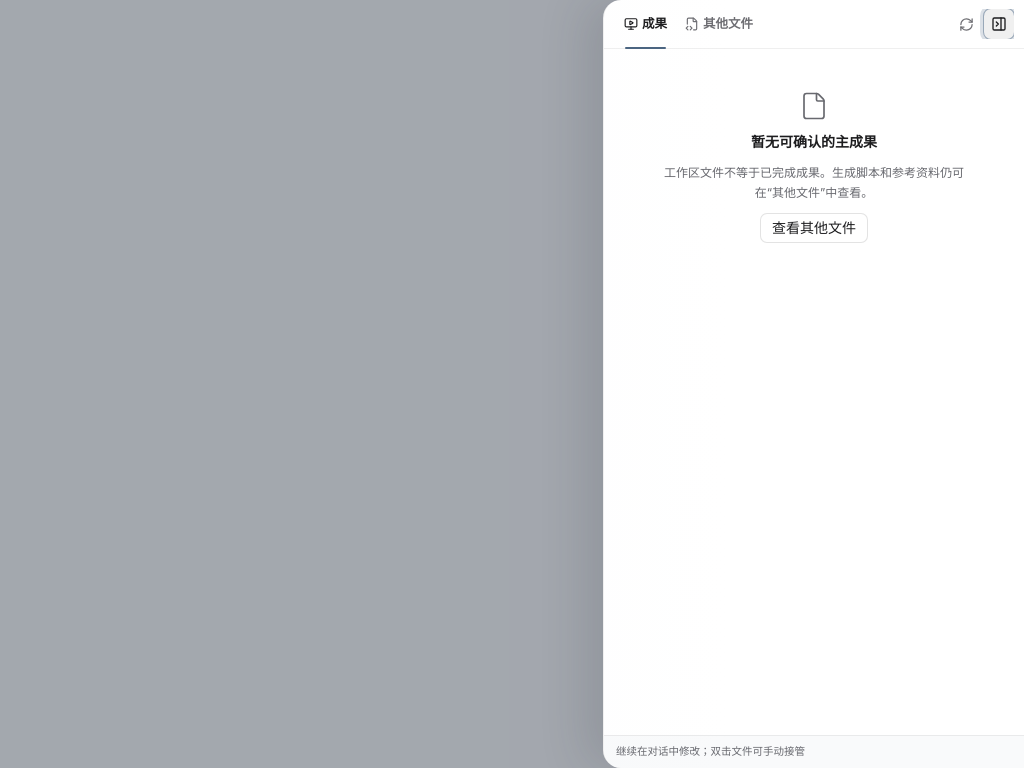
Test: ChatArtifactPanel › keeps the last scoped file tree when a refresh temporarily fails
Click the button "其他文件".
click(719, 24)  # box x1=677 y1=0 x2=761 y2=48
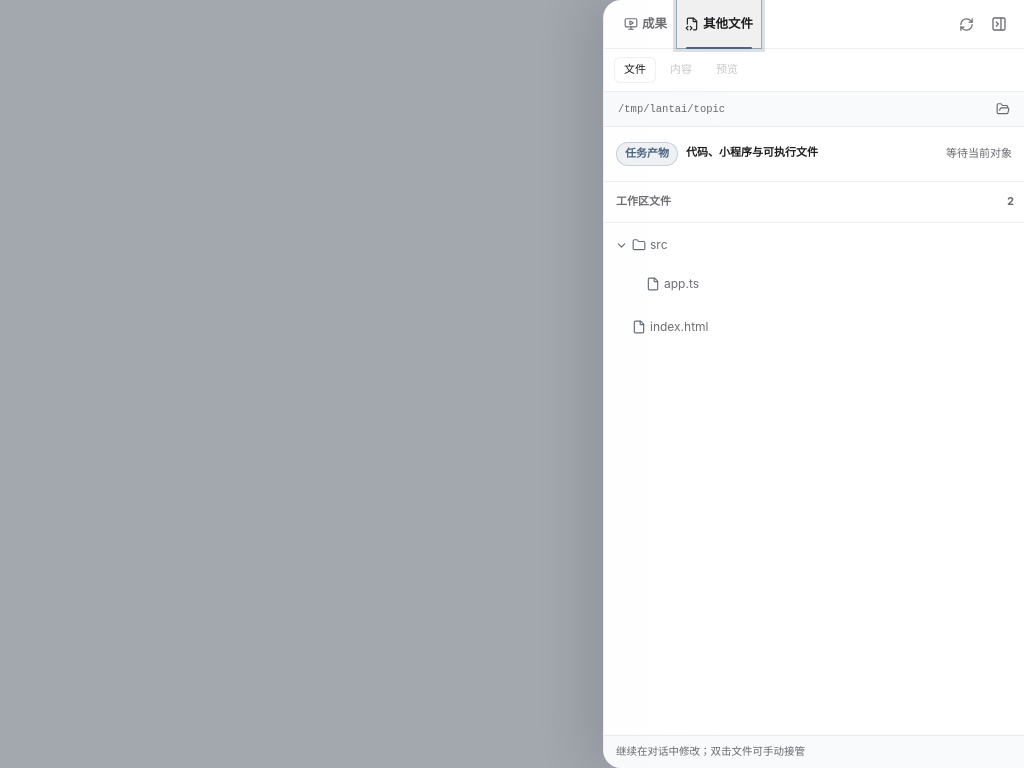
Now the text "index.html" is shown, box x1=650 y1=319 x2=708 y2=334
Click the button named "刷新成果与文件".
click(966, 24)  # box x1=951 y1=9 x2=981 y2=39
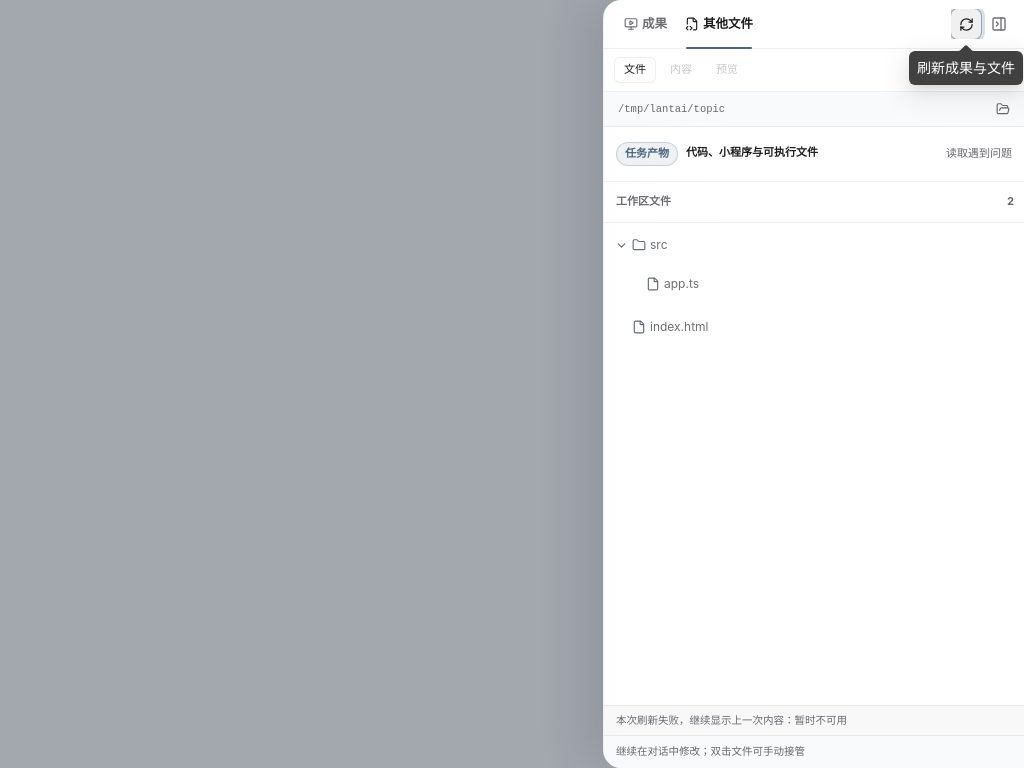
Now the text "index.html" is shown, box x1=650 y1=319 x2=708 y2=334
Now the text "本次刷新失败，继续显示上一次内容：暂时不可用" is shown, box x1=604 y1=705 x2=1023 y2=735
